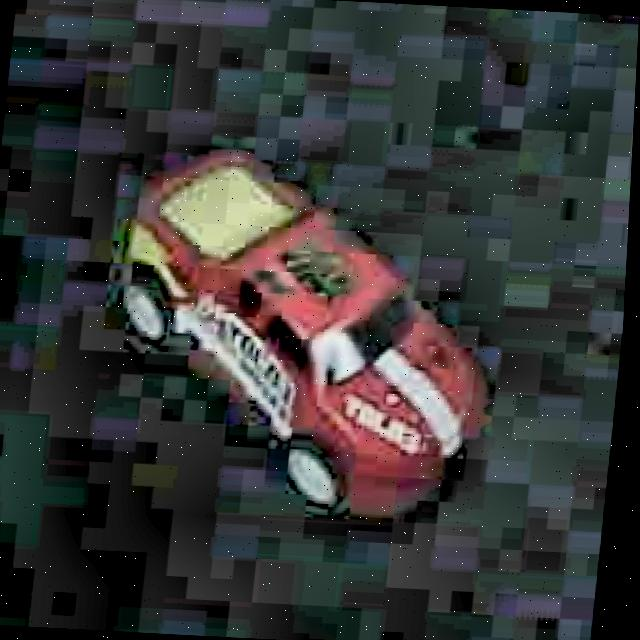car: (91, 134, 505, 529)
